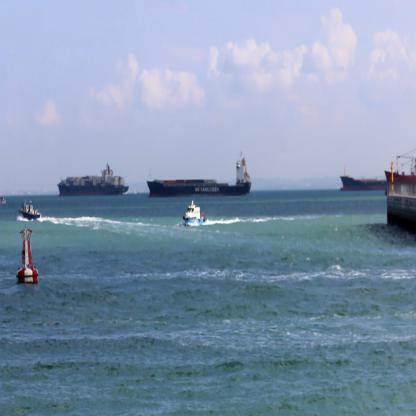Container Ship: (146, 150, 252, 197), (385, 145, 416, 231), (57, 162, 130, 198), (340, 166, 387, 193)
